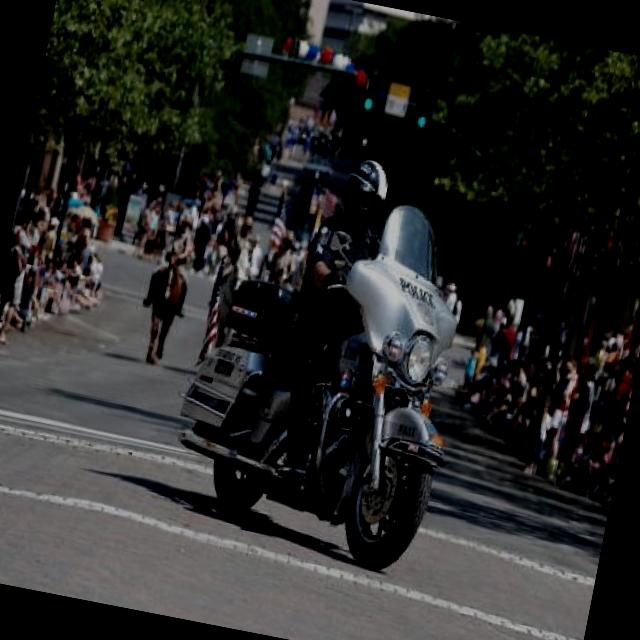Person: (0, 70, 640, 507), (252, 150, 393, 473), (140, 204, 202, 316), (0, 203, 39, 346), (596, 350, 637, 464), (548, 380, 590, 484), (542, 352, 581, 457), (222, 210, 264, 289), (501, 338, 536, 397), (188, 206, 216, 272), (72, 212, 98, 268), (24, 210, 44, 252), (461, 343, 478, 388), (38, 242, 58, 274)
